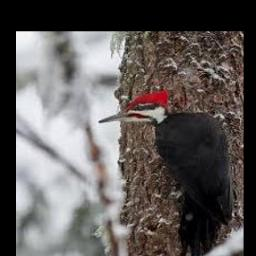Woodpecker: (99, 89, 228, 256)
